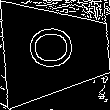O_E: (28, 28, 84, 75)
